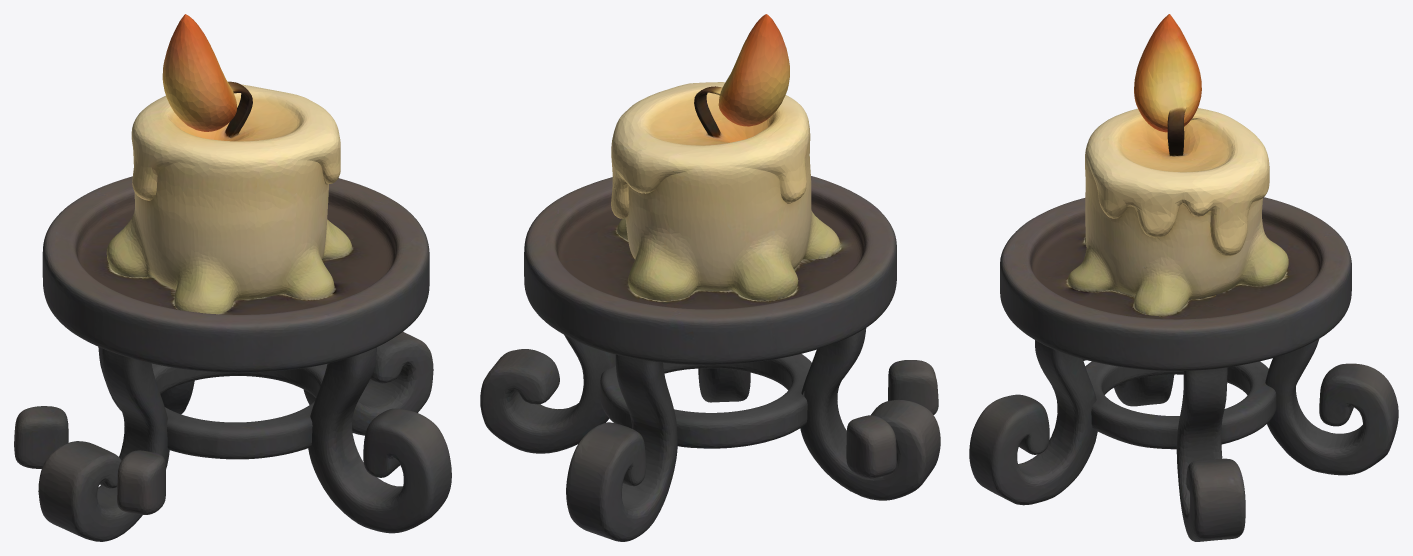
The model's file is candle_2.glb.
3 renders of one model, left to right at view 1: azimuth 30°, elevation 25°; view 2: azimuth 150°, elevation 25°; view 3: azimuth 270°, elevation 25°, orthographic. The views are drawn at different scales.
Visible parts, largest first — view 1: tripo_node_2075dc06-560d-4015-952b-298fbb4557da; view 2: tripo_node_2075dc06-560d-4015-952b-298fbb4557da; view 3: tripo_node_2075dc06-560d-4015-952b-298fbb4557da.
Boxes of the visible parts, left/top/right/bottom form: tripo_node_2075dc06-560d-4015-952b-298fbb4557da: left=14, top=14, right=451, bottom=541; tripo_node_2075dc06-560d-4015-952b-298fbb4557da: left=480, top=14, right=940, bottom=541; tripo_node_2075dc06-560d-4015-952b-298fbb4557da: left=969, top=14, right=1398, bottom=541.
Size of the model in its own units: 0.8937 by 0.9801 by 0.8867.
Materials: 1 (1 with a texture image).
